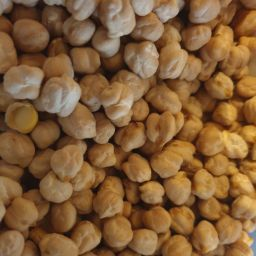White Chickpeas: (10, 11, 256, 256)
